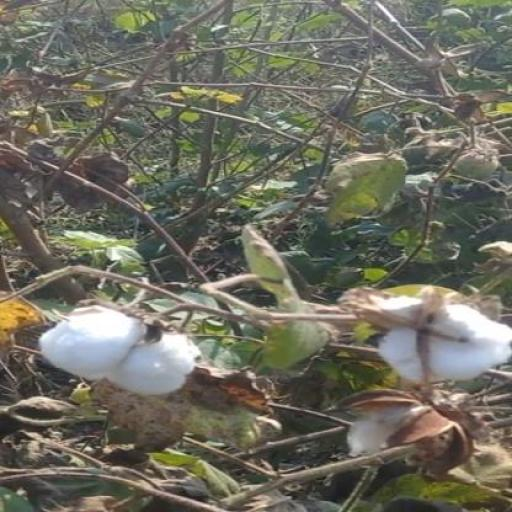cotton_ready: (25, 298, 235, 407)
